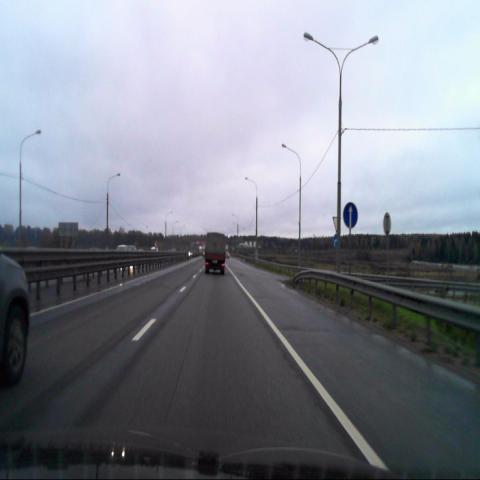4_1_1: (342, 202, 358, 230)
4_1_2: (333, 235, 340, 248)
